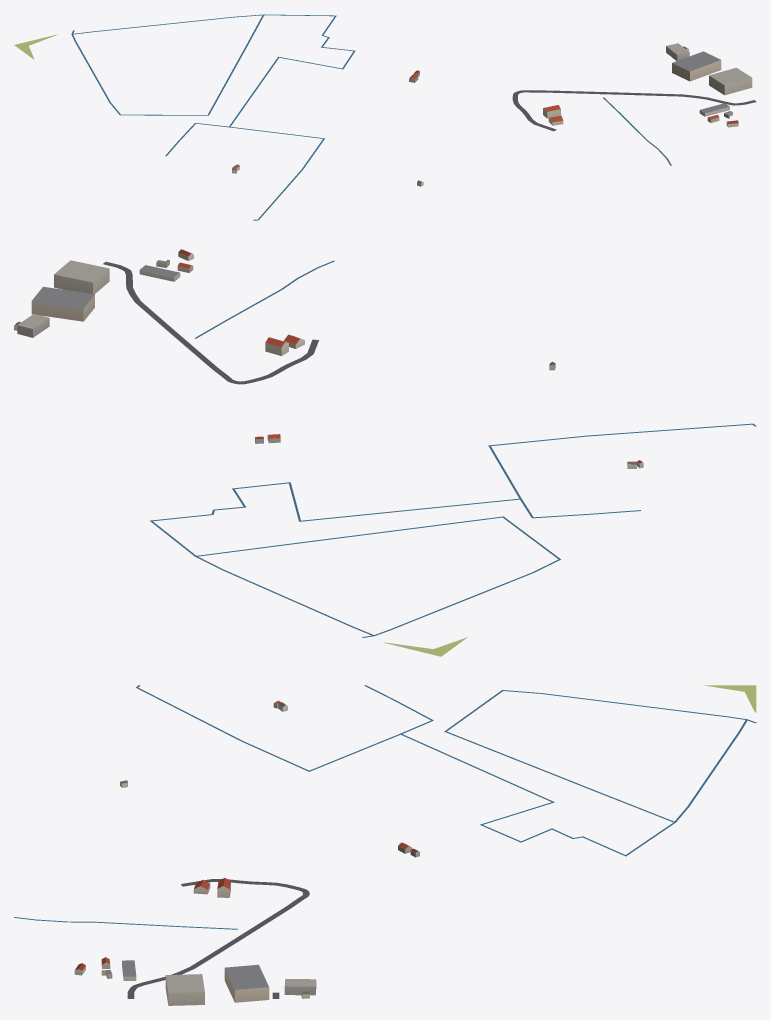
3 renders of one model, top to bottom at view 1: azimuth 30°, elevation 25°; view 2: azimuth 150°, elevation 25°; view 3: azimuth 270°, elevation 25°, orthographic. The views are drawn at different scales.
Visible parts, largest first — view 1: water, buildings_walls, buildings_roofs, roads; view 2: water, buildings_walls, buildings_roofs, roads; view 3: water, buildings_roofs, buildings_walls, roads.
Boxes of the visible parts, box(x1,y1,x2,y2) form: water: box(71, 14, 671, 220); buildings_walls: box(232, 46, 752, 186); buildings_roofs: box(232, 43, 751, 183); roads: box(512, 90, 756, 131); water: box(150, 260, 756, 637); buildings_walls: box(14, 252, 643, 468); buildings_roofs: box(14, 249, 642, 464); roads: box(103, 261, 318, 384); water: box(14, 685, 756, 929); buildings_roofs: box(75, 700, 418, 994); buildings_walls: box(74, 702, 419, 1005); roads: box(127, 879, 309, 998).
Bounding box in the file's own units: 512 × 9.59 × 501.
